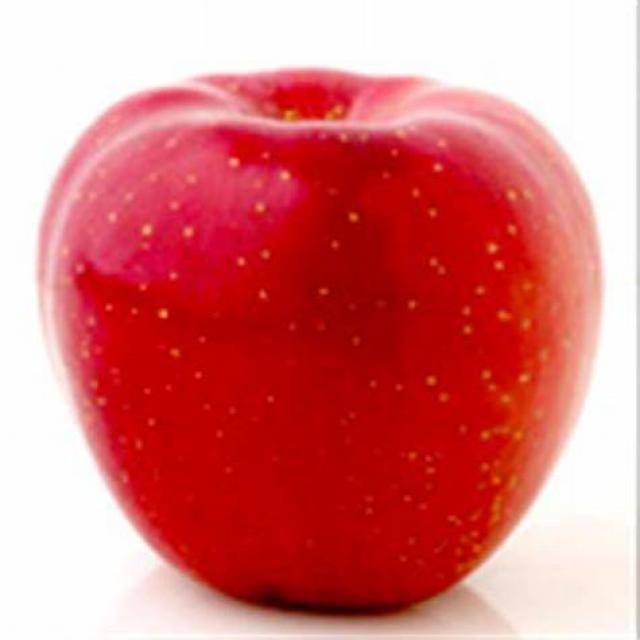Apple: (38, 63, 602, 618)
